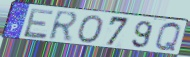7: (106, 15, 131, 48)
9: (131, 20, 155, 50)
E: (22, 8, 56, 40)
O: (76, 15, 105, 45)
Q: (154, 21, 182, 53)
R: (47, 9, 80, 43)
